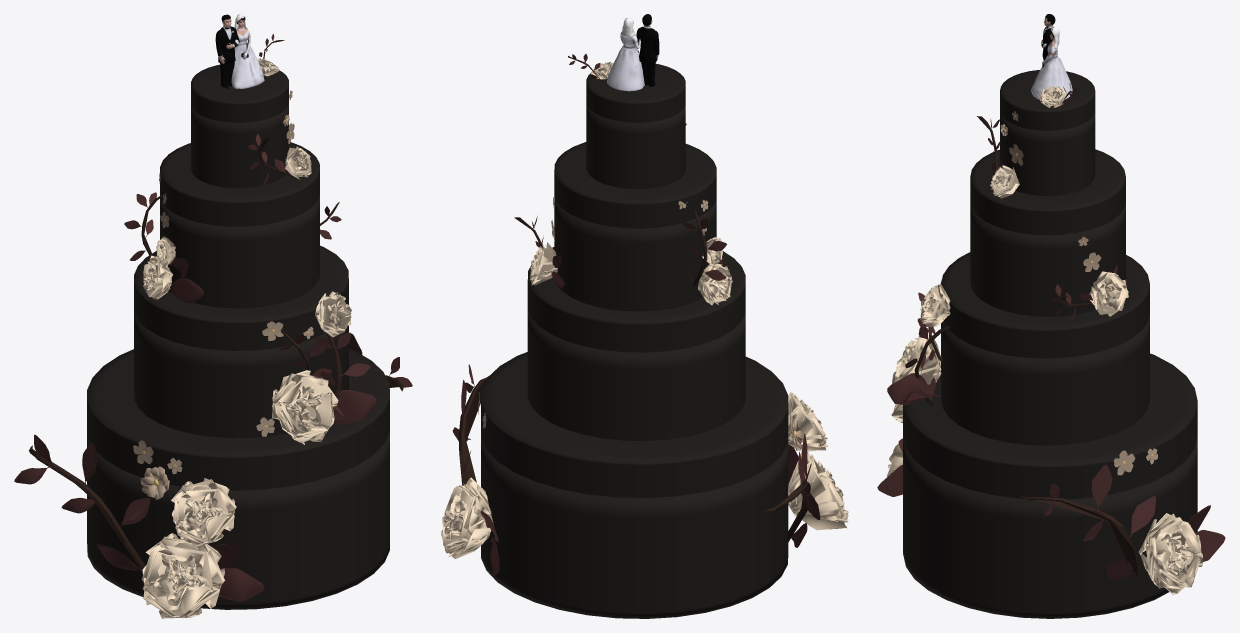
Rendered from 4-tier-black-roses-bridegroom.glb.
3 renders of one model, left to right at view 1: azimuth 30°, elevation 25°; view 2: azimuth 150°, elevation 25°; view 3: azimuth 270°, elevation 25°, orthographic.
Visible parts, largest first — view 1: 3.001, 3, 2, 1, grid.013, Plane.024, grid.016, grid.012, 13501_Cake_Topper_Bride_Groom_v1_L1.001, grid.015, Plane.009, Plane.022 (+7 smaller); view 2: 3.001, 3, 2, 1, grid.020, 13501_Cake_Topper_Bride_Groom_v1_L1.001, grid.013, Plane.008, Plane.024, grid.012, grid.017, Plane.023 (+1 smaller); view 3: 3.001, 3, 2, 1, grid.020, Plane.008, 13501_Cake_Topper_Bride_Groom_v1_L1.001, grid.016, grid.019, Plane.009, grid.015, grid.021 (+3 smaller).
Boxes of the visible parts, x1=… form: 3.001: x1=87, y1=348, x2=389, y2=609; 3: x1=134, y1=245, x2=348, y2=438; 2: x1=160, y1=142, x2=319, y2=308; 1: x1=191, y1=64, x2=288, y2=188; grid.013: x1=142, y1=533, x2=225, y2=618; Plane.024: x1=14, y1=434, x2=150, y2=570; grid.016: x1=272, y1=370, x2=338, y2=444; grid.012: x1=171, y1=478, x2=236, y2=547; 13501_Cake_Topper_Bride_Groom_v1_L1.001: x1=215, y1=14, x2=264, y2=88; grid.015: x1=315, y1=291, x2=351, y2=337; Plane.009: x1=333, y1=390, x2=376, y2=424; Plane.022: x1=218, y1=568, x2=264, y2=601; 3.001: x1=481, y1=352, x2=788, y2=618; 3: x1=527, y1=247, x2=745, y2=441; 2: x1=554, y1=142, x2=716, y2=311; 1: x1=586, y1=63, x2=685, y2=189; grid.020: x1=441, y1=477, x2=493, y2=558; 13501_Cake_Topper_Bride_Groom_v1_L1.001: x1=607, y1=14, x2=659, y2=91; grid.013: x1=788, y1=452, x2=848, y2=530; Plane.008: x1=452, y1=364, x2=488, y2=485; Plane.024: x1=762, y1=433, x2=820, y2=547; grid.012: x1=788, y1=392, x2=828, y2=451; grid.017: x1=698, y1=263, x2=732, y2=305; Plane.023: x1=681, y1=209, x2=726, y2=286; 3.001: x1=903, y1=353, x2=1197, y2=618; 3: x1=941, y1=252, x2=1149, y2=445; 2: x1=970, y1=149, x2=1125, y2=316; 1: x1=1000, y1=70, x2=1095, y2=196; grid.020: x1=1138, y1=513, x2=1202, y2=594; Plane.008: x1=1021, y1=464, x2=1156, y2=579; 13501_Cake_Topper_Bride_Groom_v1_L1.001: x1=1031, y1=14, x2=1072, y2=99; grid.016: x1=892, y1=331, x2=941, y2=384; grid.019: x1=1089, y1=271, x2=1128, y2=316; Plane.009: x1=887, y1=373, x2=940, y2=404; grid.015: x1=920, y1=284, x2=950, y2=326; grid.021: x1=990, y1=165, x2=1019, y2=198.
Bounding box in the file's own units: 6.25 × 8.54 × 5.05.
Materials: 7 (1 with a texture image).
